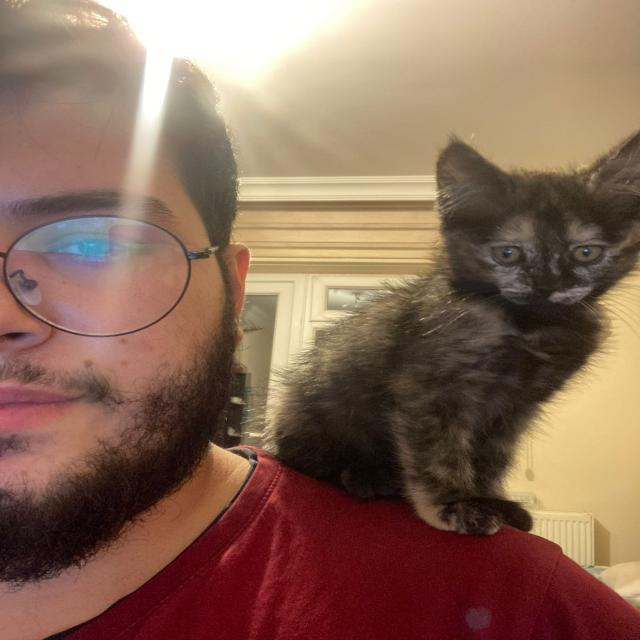authorized: (259, 128, 639, 537)
